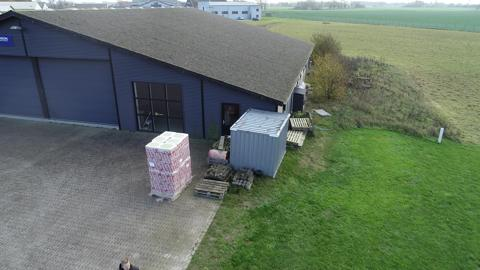RockwoolPallet: (144, 130, 193, 200)
